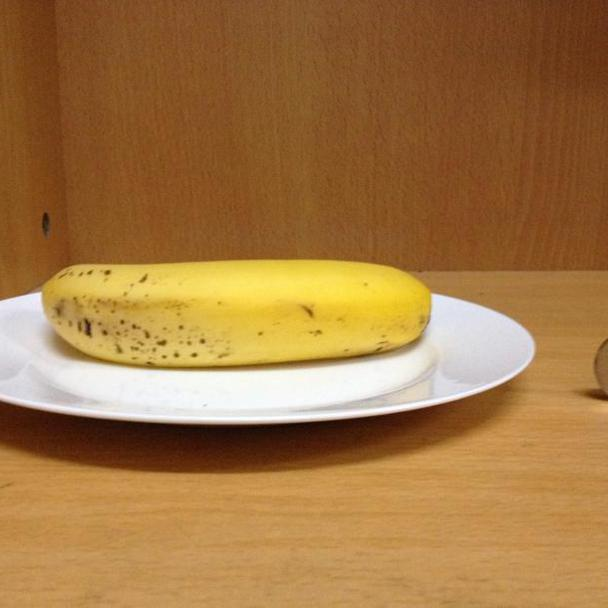banana: (35, 253, 447, 370)
